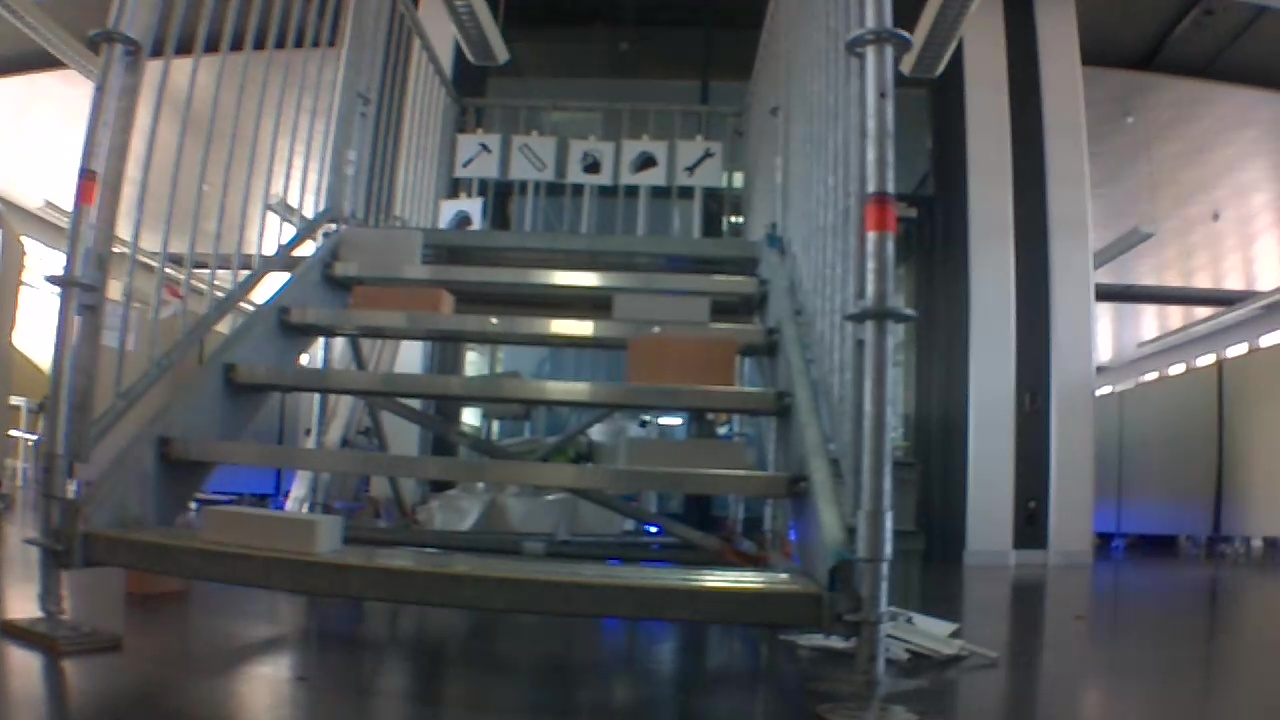brick: (195, 510, 351, 549), (625, 341, 739, 383), (610, 438, 756, 466), (334, 232, 420, 261), (605, 296, 708, 318), (348, 290, 454, 310)
bucket: (580, 148, 606, 175)
edge: (81, 531, 837, 631), (159, 433, 800, 499), (224, 363, 788, 412), (280, 304, 771, 342), (332, 222, 758, 255), (328, 262, 765, 293)
hammer: (462, 141, 497, 167)
ruler: (516, 143, 547, 171)
stairs: (49, 0, 862, 718)
steps: (52, 235, 848, 632)
taco: (624, 152, 659, 175), (447, 208, 473, 229)
wrench: (682, 146, 717, 177)
